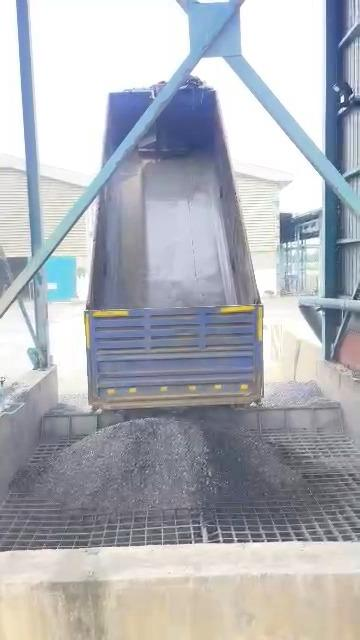gravel: (14, 414, 303, 512), (263, 381, 329, 407)
